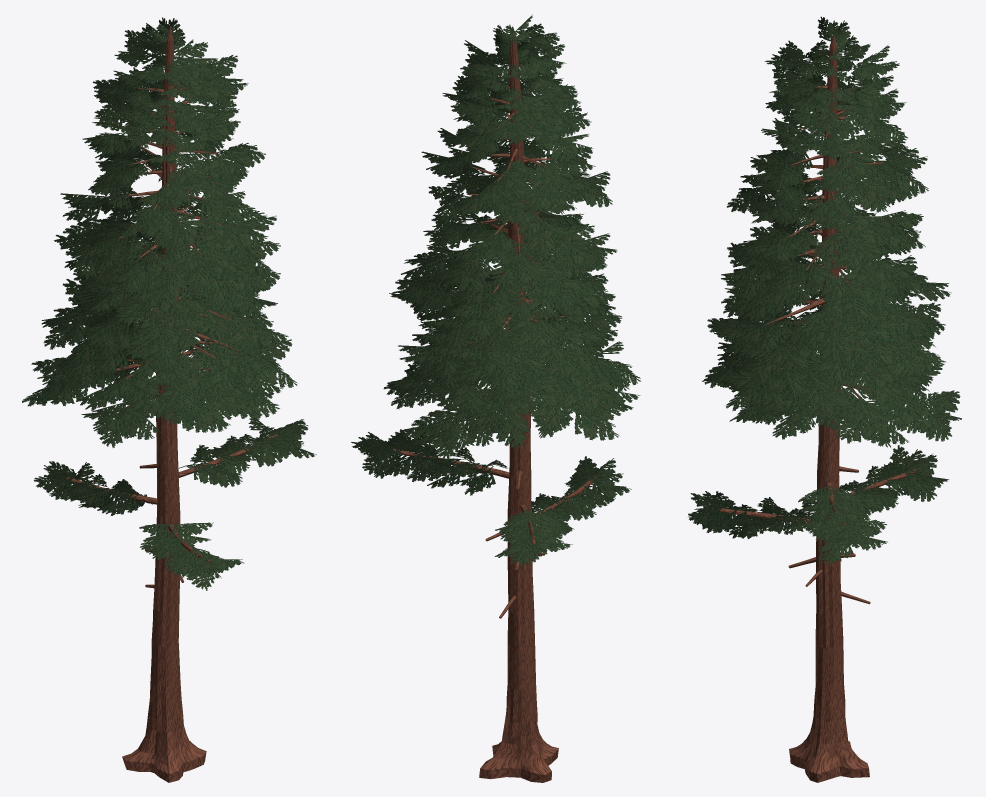
File: environment_redwood4_v2.fbx
3 renders of one model, left to right at view 1: azimuth 30°, elevation 25°; view 2: azimuth 150°, elevation 25°; view 3: azimuth 270°, elevation 25°, orthographic.
Parts seen in each view (by area): view 1: environment_redwood4_v2_lod0; view 2: environment_redwood4_v2_lod0; view 3: environment_redwood4_v2_lod0.
Boxes of the visible parts, x1=… form: environment_redwood4_v2_lod0: x1=22, y1=17, x2=316, y2=782; environment_redwood4_v2_lod0: x1=351, y1=14, x2=640, y2=782; environment_redwood4_v2_lod0: x1=688, y1=16, x2=961, y2=782.
Size of what is drawn, in the model's own units: 3222 by 8218 by 2950.
